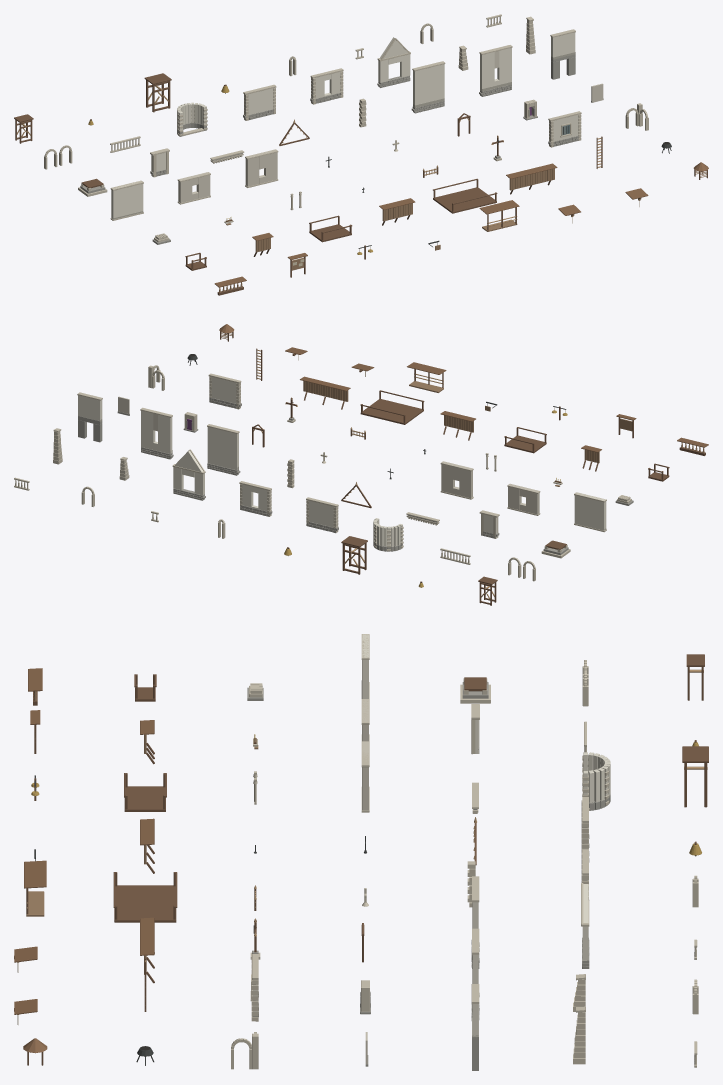
File: civic.glb
3 renders of one model, top to bottom at view 1: azimuth 30°, elevation 25°; view 2: azimuth 150°, elevation 25°; view 3: azimuth 270°, elevation 25°, orthographic. The views are drawn at different scales.
Visible parts, largest first — view 1: GK_civic_church_nave_bay_plain_4m_h5p4m, GK_civic_church_nave_bay_lancet_4m_h5p4m, GK_civic_watch_platform_6m, GK_civic_chapel_facade_gable_4m, GK_civic_church_tower_shaft_bay_4m_h4m, GK_civic_church_tower_belfry_bay_4m_h3p8m, GK_civic_church_west_portal_bay_3m_h5p4m, GK_civic_monastery_cell_bay_4m, GK_civic_chapel_nave_bay_plain_4m, GK_civic_chapel_nave_bay_lancet_4m, GK_civic_chapel_apse_halfround, GK_civic_church_tower_belfry_bay_4m_h3m (+6 smaller); view 2: GK_civic_church_nave_bay_plain_4m_h5p4m, GK_civic_church_nave_bay_lancet_4m_h5p4m, GK_civic_chapel_facade_gable_4m, GK_civic_church_tower_shaft_bay_4m_h4m, GK_civic_watch_platform_6m, GK_civic_church_west_portal_bay_3m_h5p4m, GK_civic_church_tower_belfry_bay_4m_h3p8m, GK_civic_chapel_nave_bay_plain_4m, GK_civic_monastery_cell_bay_4m, GK_civic_chapel_nave_bay_lancet_4m, GK_civic_chapel_apse_halfround, GK_civic_church_tower_belfry_bay_4m_h3m (+6 smaller); view 3: GK_civic_watch_platform_6m, GK_civic_chapel_apse_halfround, GK_civic_watch_platform_4m, GK_civic_tavern_gallery_4m, GK_civic_belfry_frame_large, GK_civic_chapel_belfry_transition, GK_civic_chapel_facade_gable_4m, GK_civic_hoarding_panel_6m.
Boxes of the visible parts, x1,y1,x2,y2 form: GK_civic_church_nave_bay_plain_4m_h5p4m: [411, 61, 445, 113]; GK_civic_church_nave_bay_lancet_4m_h5p4m: [479, 45, 512, 96]; GK_civic_watch_platform_6m: [433, 178, 497, 213]; GK_civic_chapel_facade_gable_4m: [377, 37, 410, 87]; GK_civic_church_tower_shaft_bay_4m_h4m: [110, 180, 143, 220]; GK_civic_church_tower_belfry_bay_4m_h3p8m: [245, 149, 278, 187]; GK_civic_church_west_portal_bay_3m_h5p4m: [550, 29, 575, 79]; GK_civic_monastery_cell_bay_4m: [548, 111, 581, 147]; GK_civic_chapel_nave_bay_plain_4m: [243, 84, 276, 120]; GK_civic_chapel_nave_bay_lancet_4m: [310, 68, 343, 104]; GK_civic_chapel_apse_halfround: [177, 102, 207, 136]; GK_civic_church_tower_belfry_bay_4m_h3m: [177, 172, 210, 204]; GK_civic_church_nave_bay_plain_4m_h5p4m: [207, 424, 240, 475]; GK_civic_church_nave_bay_lancet_4m_h5p4m: [140, 407, 173, 459]; GK_civic_chapel_facade_gable_4m: [172, 449, 205, 500]; GK_civic_church_tower_shaft_bay_4m_h4m: [574, 492, 606, 532]; GK_civic_watch_platform_6m: [360, 390, 424, 424]; GK_civic_church_west_portal_bay_3m_h5p4m: [77, 392, 102, 442]; GK_civic_church_tower_belfry_bay_4m_h3p8m: [440, 461, 473, 499]; GK_civic_chapel_nave_bay_plain_4m: [306, 497, 338, 533]; GK_civic_monastery_cell_bay_4m: [208, 373, 241, 409]; GK_civic_chapel_nave_bay_lancet_4m: [239, 481, 272, 516]; GK_civic_chapel_apse_halfround: [373, 518, 403, 551]; GK_civic_church_tower_belfry_bay_4m_h3m: [507, 483, 540, 515]; GK_civic_watch_platform_6m: [113, 872, 177, 922]; GK_civic_chapel_apse_halfround: [582, 752, 610, 810]; GK_civic_watch_platform_4m: [124, 773, 166, 811]; GK_civic_tavern_gallery_4m: [24, 860, 46, 916]; GK_civic_belfry_frame_large: [682, 746, 708, 807]; GK_civic_chapel_belfry_transition: [460, 677, 490, 703]; GK_civic_chapel_facade_gable_4m: [581, 883, 589, 968]; GK_civic_hoarding_panel_6m: [140, 917, 154, 983].
Size of the model in its own units: 66.64 by 7.17 by 50.52.
